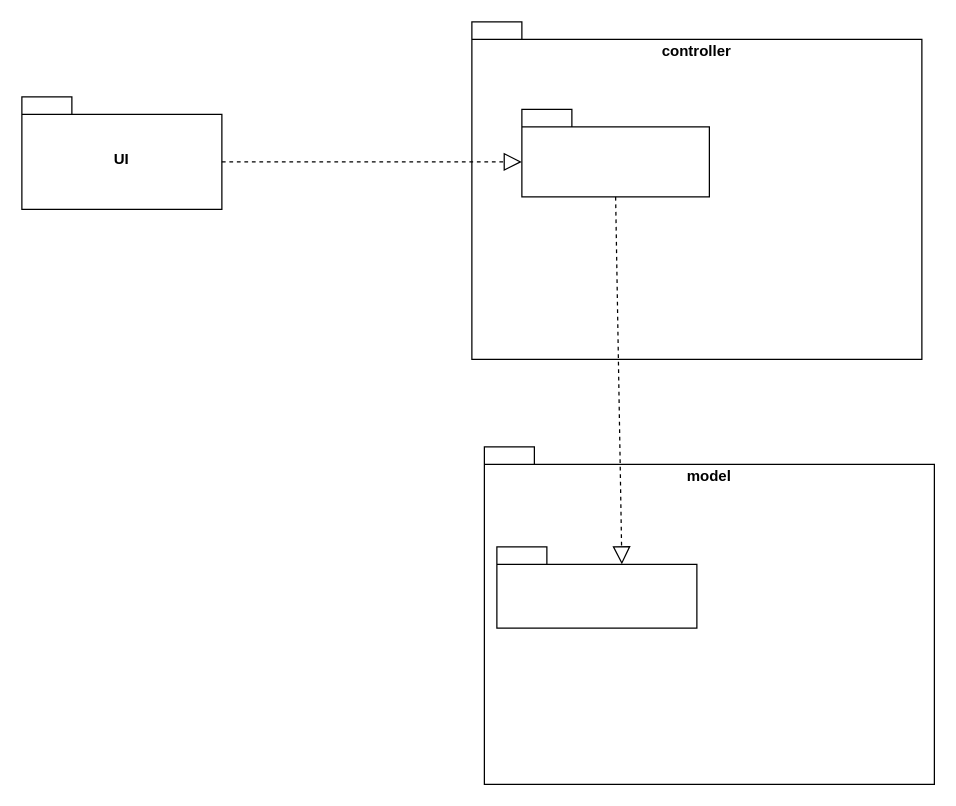
This 956x806 diagram has some shape labels left out. The shapes that lost their labels are listed below. From the top down, each one's centre as x and y in pixels, then its label:
At [615,152]: "Graphics".
At [596,587]: "Document".
